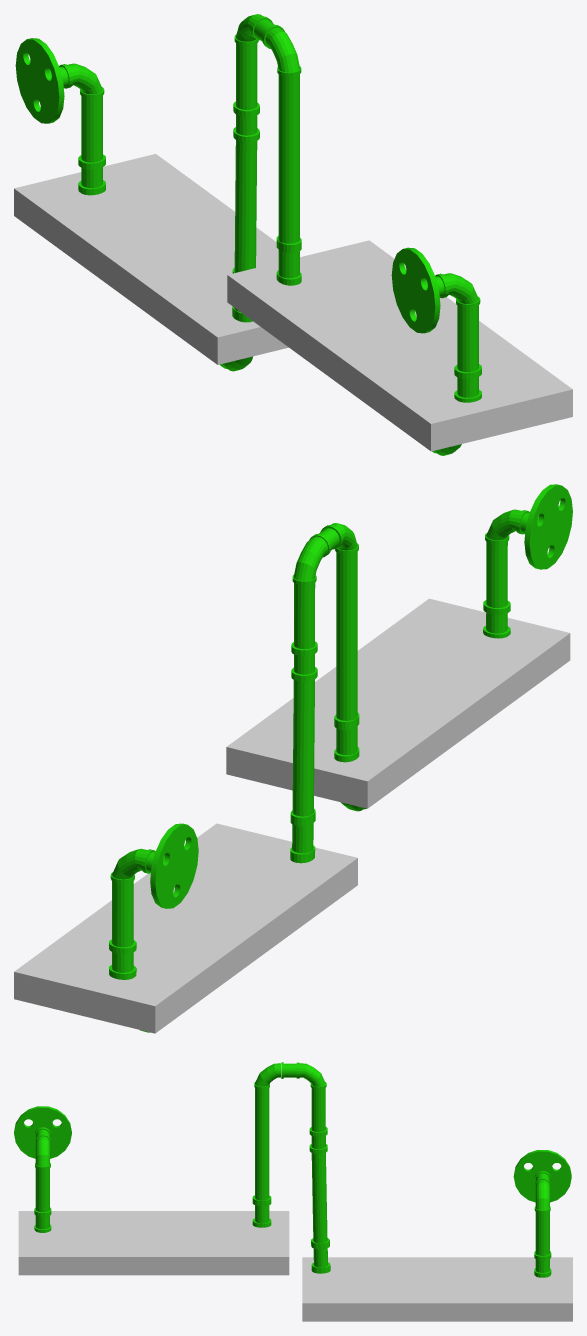
File: self.fbx
The picture shows the model from 3 angles, top to bottom: view 1: azimuth 30°, elevation 25°; view 2: azimuth 150°, elevation 25°; view 3: azimuth 270°, elevation 25°; orthographic projection. The views are drawn at different scales.
Parts seen in each view (by area): view 1: Cylinder004; view 2: Cylinder004; view 3: Cylinder004.
Part boxes in pixels (x1,y1,x2,y2): Cylinder004: (14, 14, 572, 455); Cylinder004: (14, 484, 572, 1033); Cylinder004: (14, 1062, 572, 1321).
Bounding box in the file's own units: 13.25 × 33.46 × 68.01.
